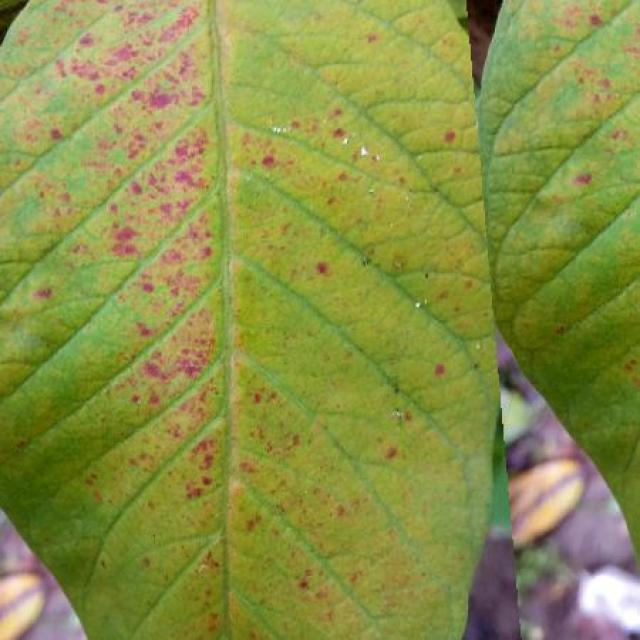Red Rust: (0, 0, 498, 639)
